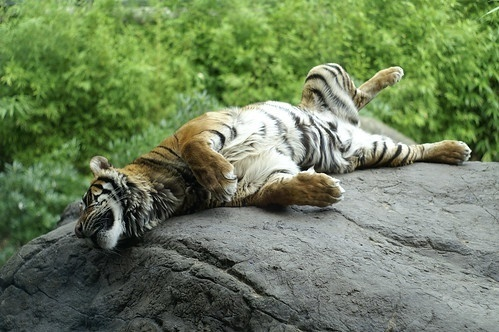tigre: (74, 60, 472, 251)
